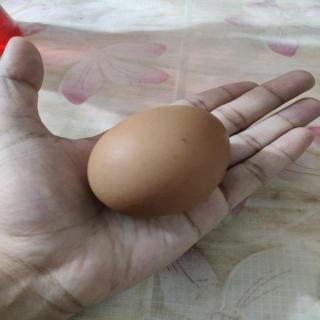Telur: (88, 103, 236, 221)
